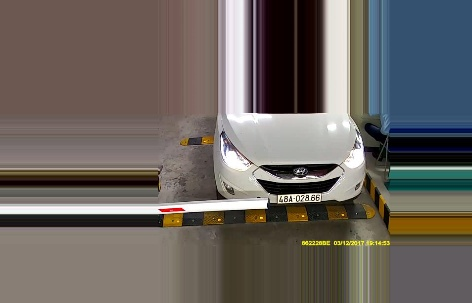plate: (276, 193, 322, 206)
